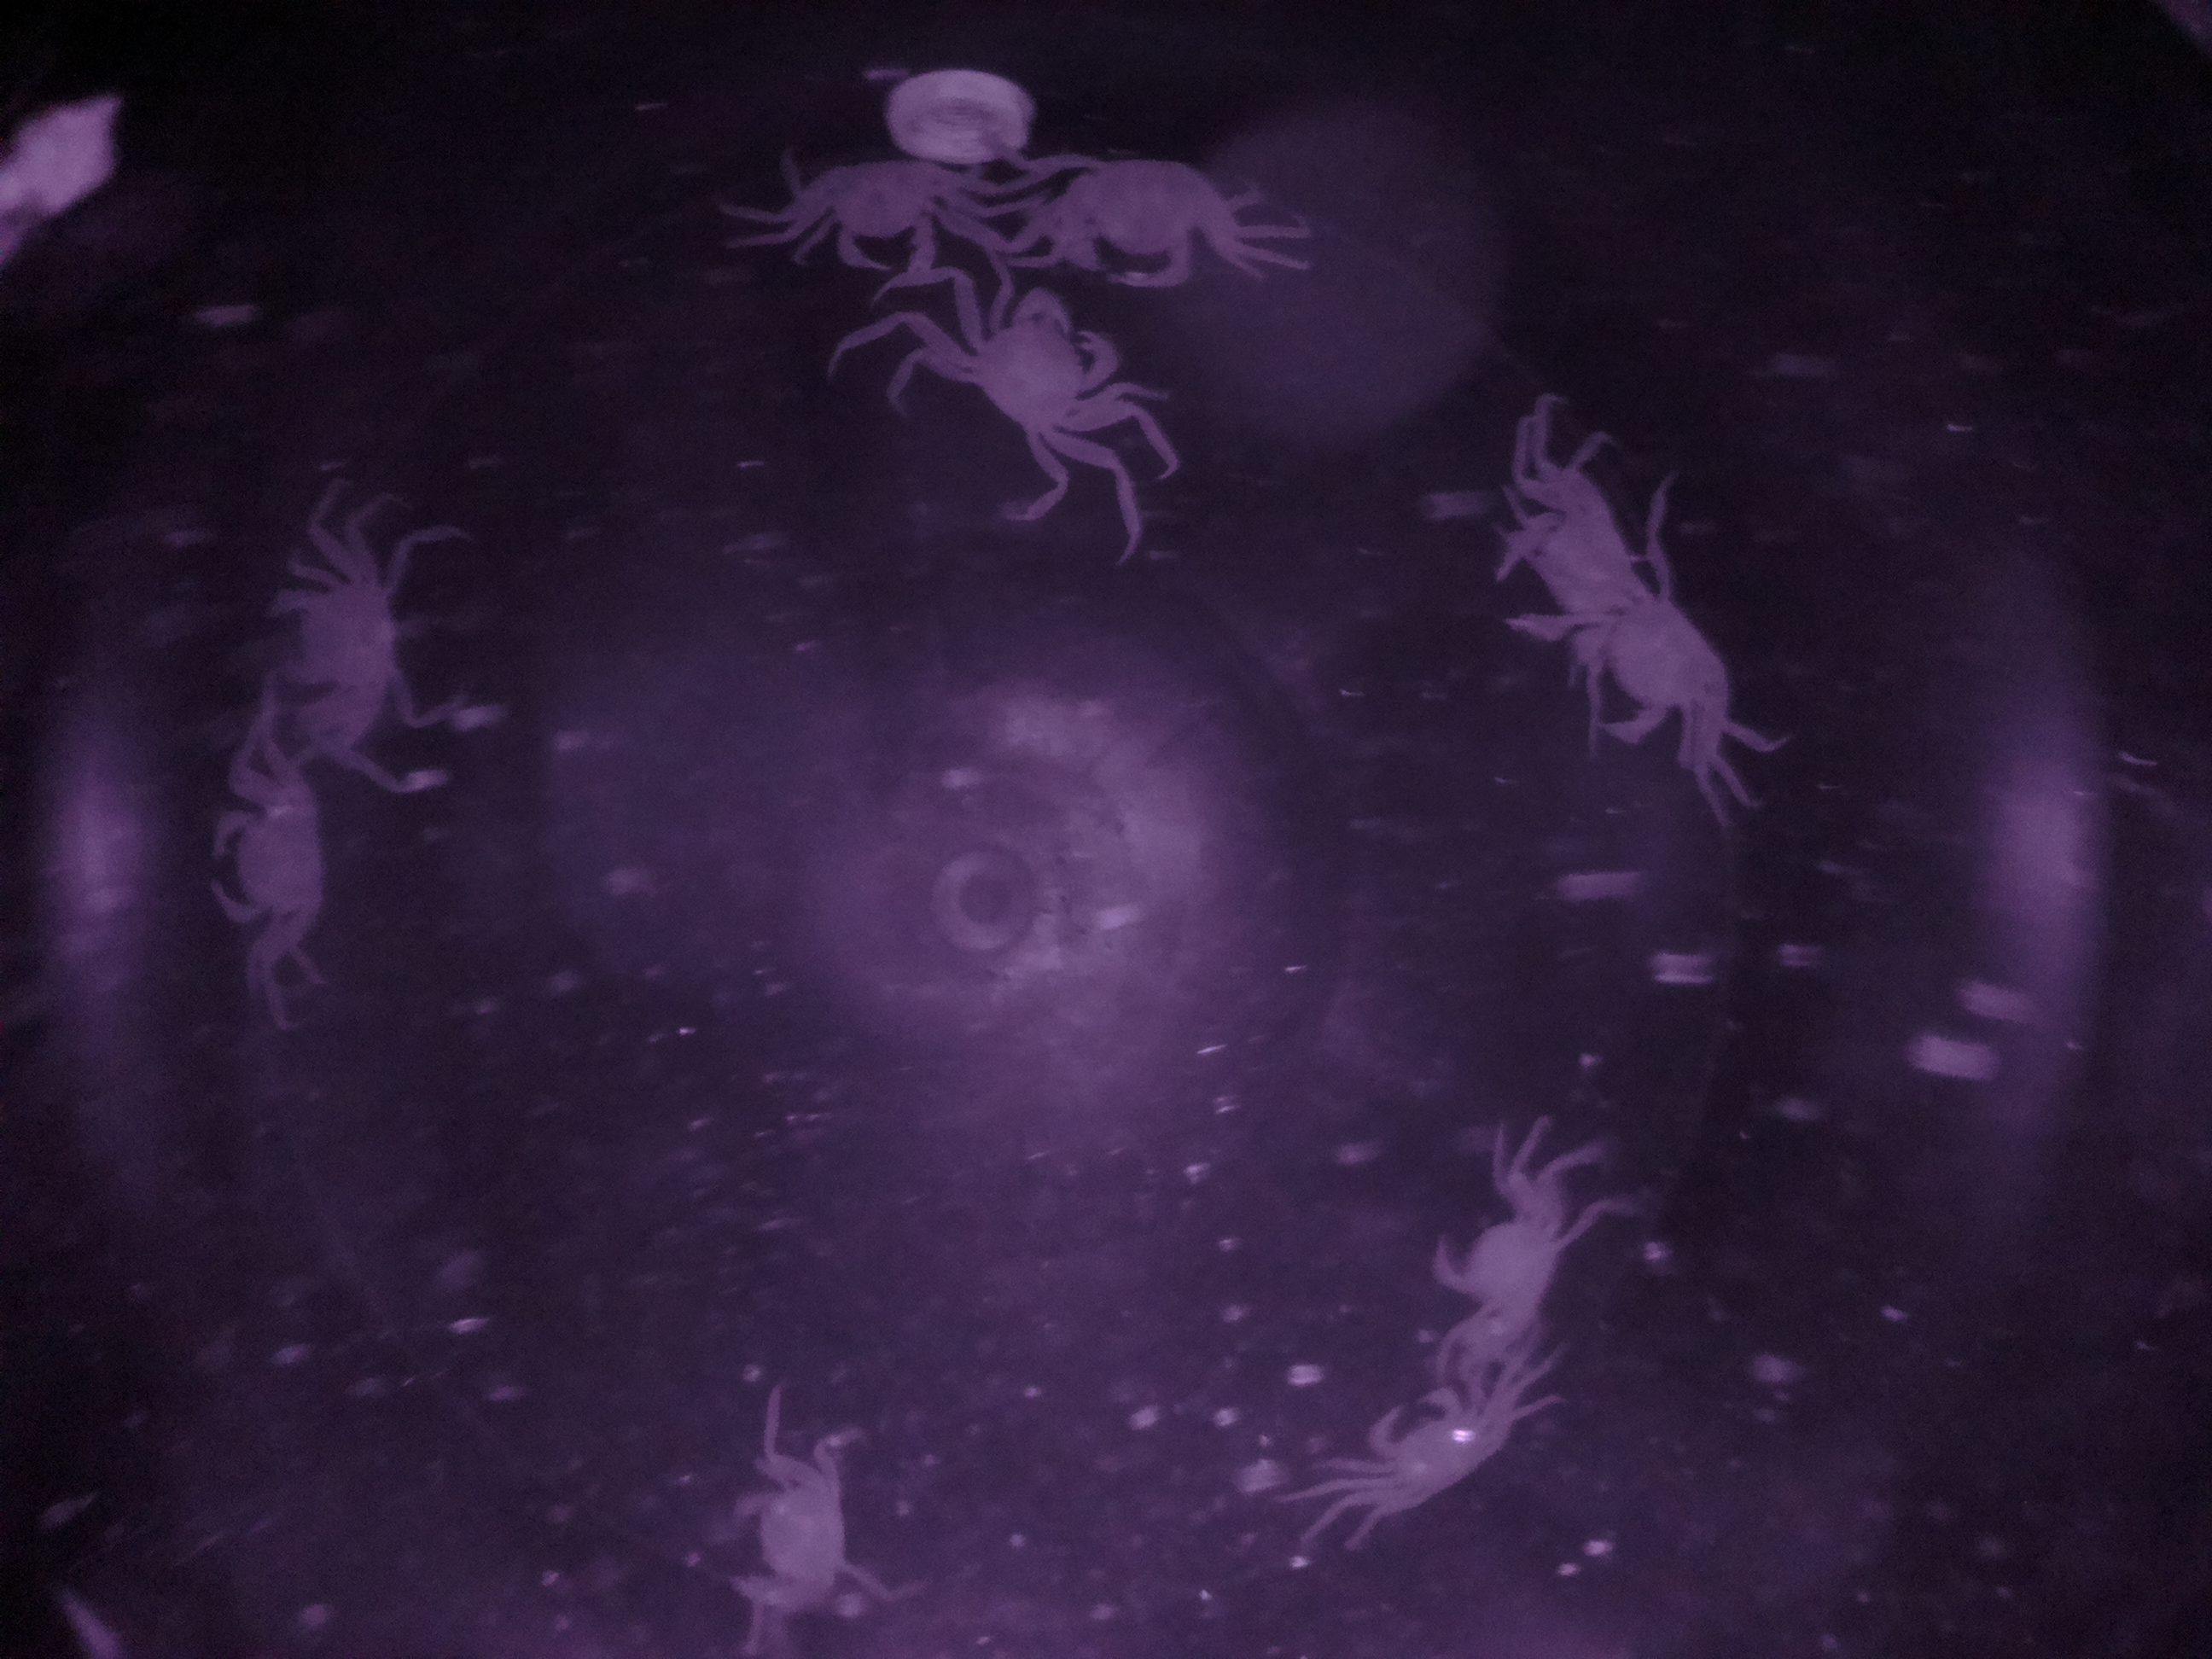Crab: (941, 270, 1141, 479), (1033, 127, 1242, 307), (174, 763, 371, 953), (1338, 1359, 1527, 1532), (792, 136, 975, 308)
